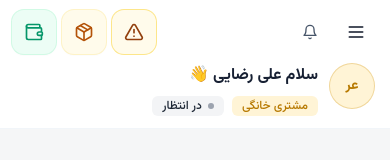
DashboardHeader › shows a KYC warning beside purchasing power when the customer is not verified
Hover over the link named "هشدار احراز هویت نشده" at {"x": 134, "y": 32}, box [112,10,156,54]
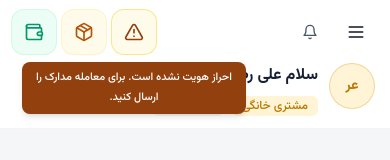
Check: the tooltip "احراز هویت نشده است. برای معامله مدارک را ارسال کنید." is shown, box [22,62,246,114]
